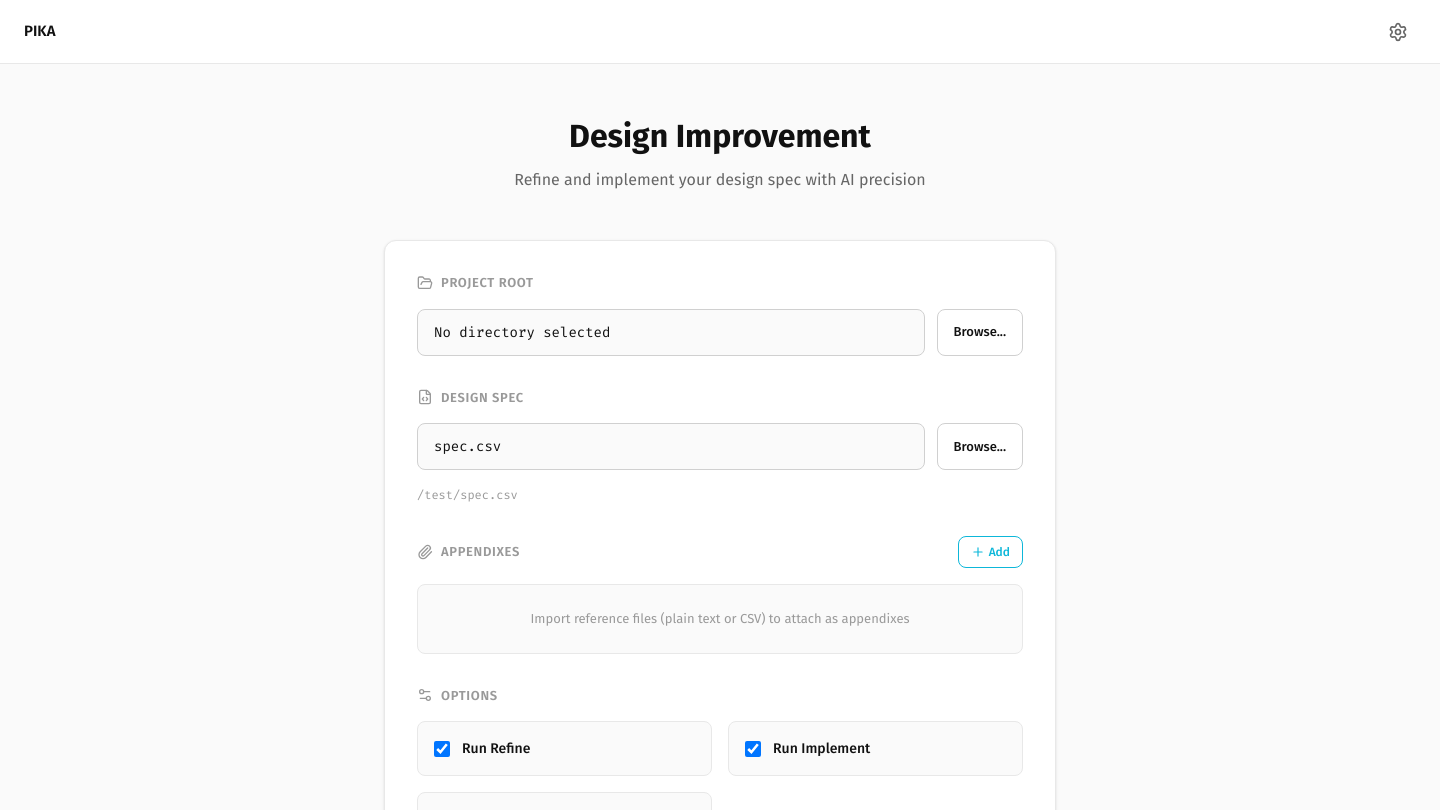
Test: EntryScreen › Appendixes section › shows error when appendix file read fails
Click the button "Add" at [990, 552], box left=958, top=536, right=1023, bottom=568
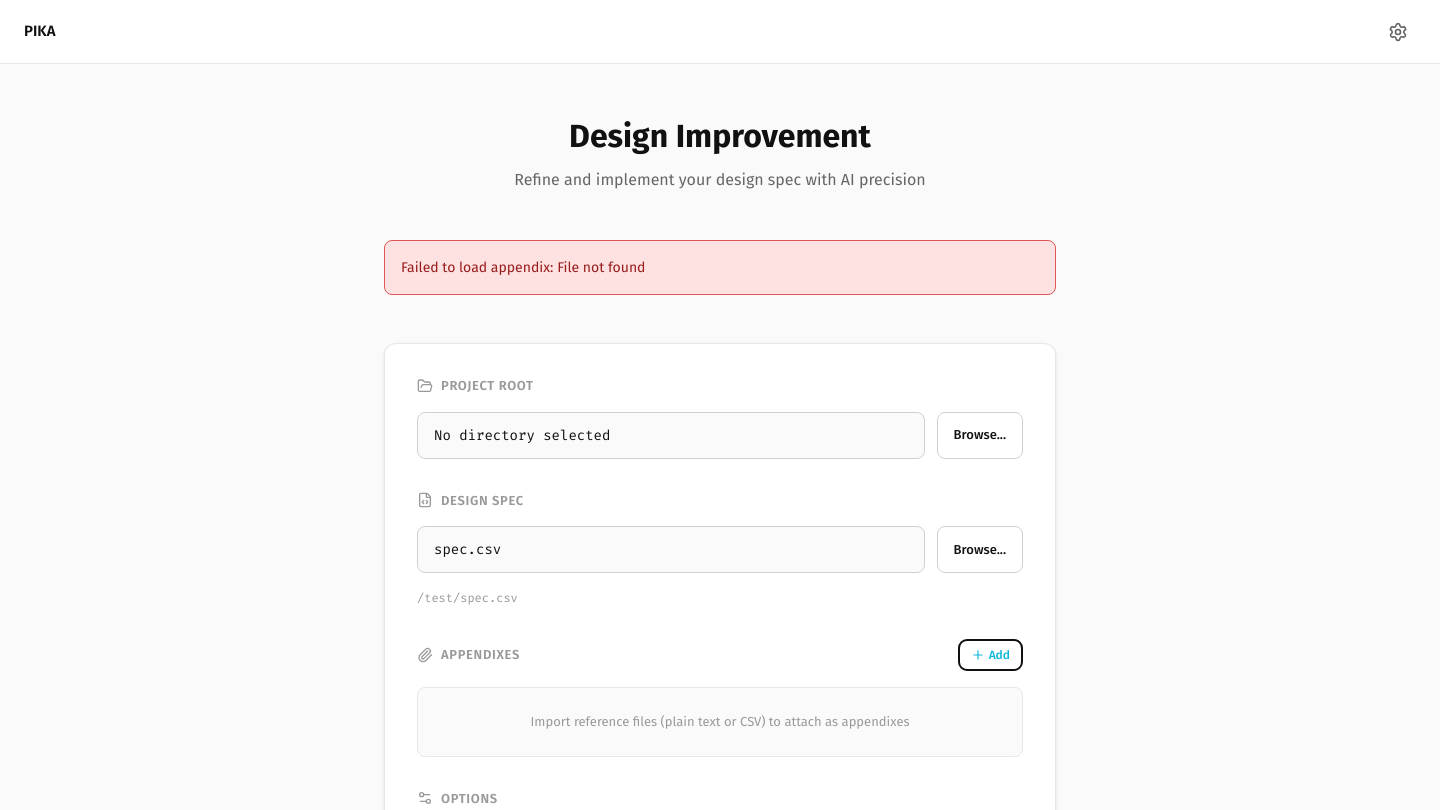
Result: the text "Failed to load appendix: File not found" is shown at left=384, top=240, right=1056, bottom=295
